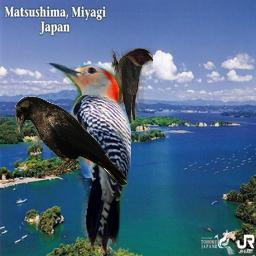Crow: (15, 96, 128, 186)
Swallow: (107, 48, 153, 124)
Woodpecker: (34, 63, 131, 252)
